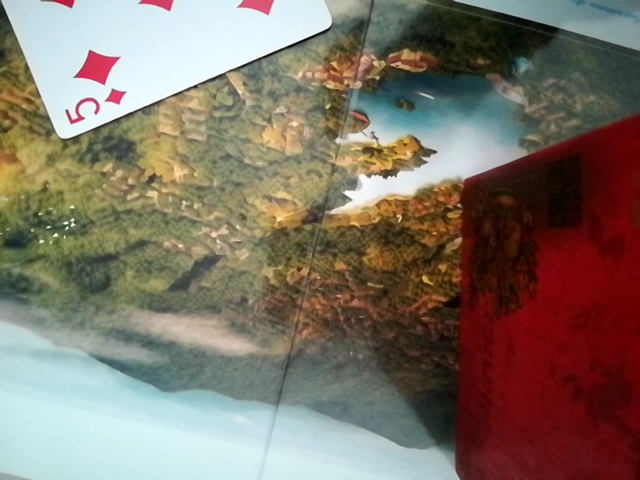fk 5: (0, 0, 348, 143)
